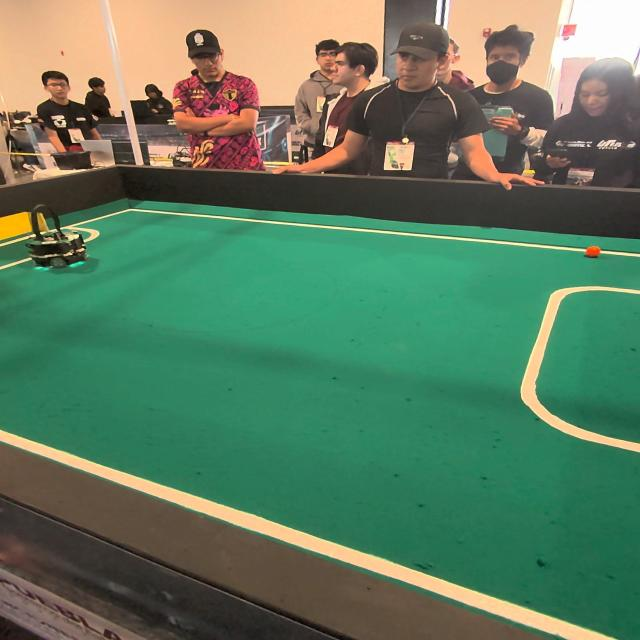Robot: (22, 202, 93, 276)
pelota: (588, 245, 602, 259)
